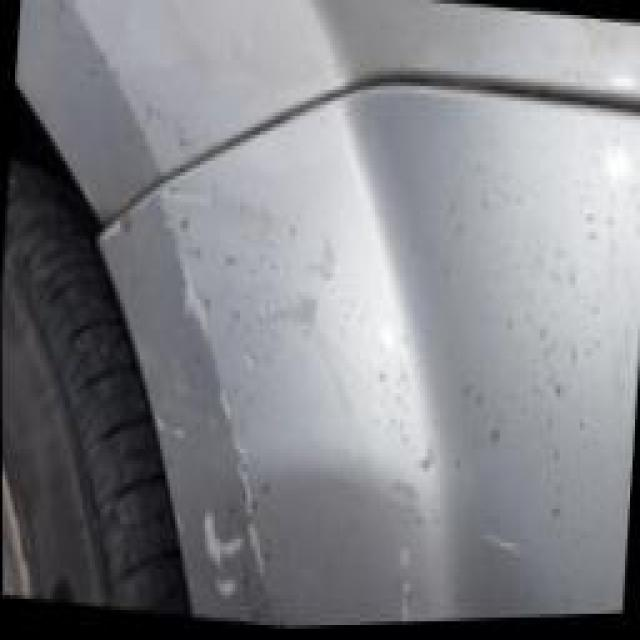Bumper: (98, 37, 640, 636)
